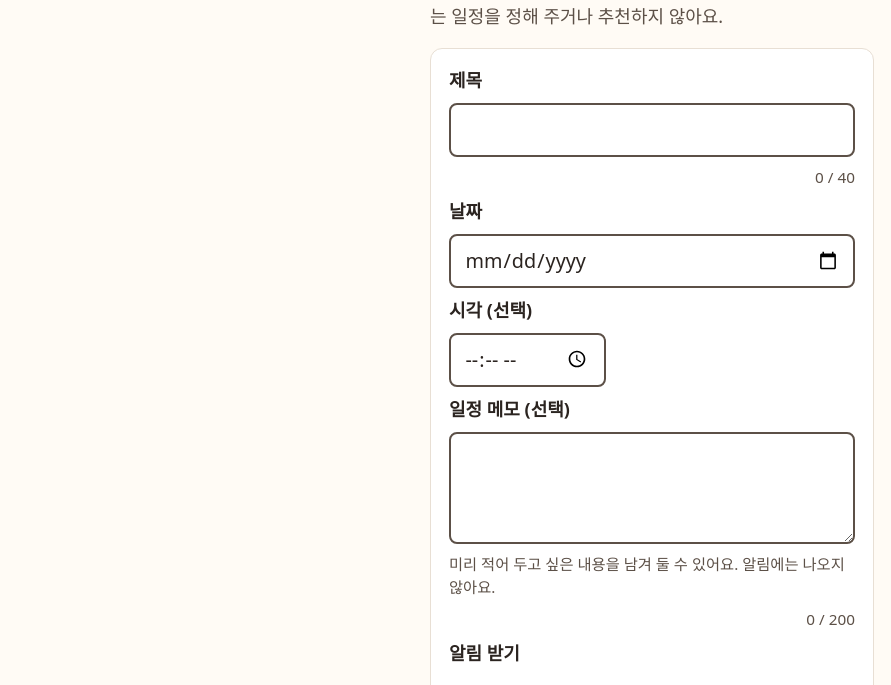
Test case: 할 일 추가 › 등록: 본문(빈 값 null)을 보내고 목록으로 가서 안내한다
Type "  광견병 접종 " into the field labelled "제목".
click(652, 130); type("  광견병 접종 ")  # box [449,103,855,157]
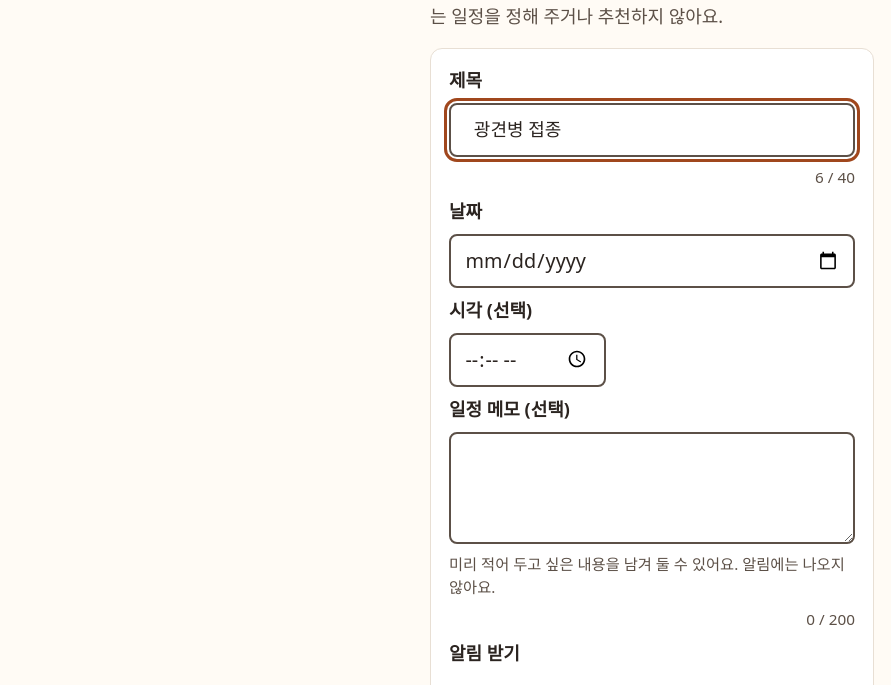
Type "2026-10-20" into the date field labelled "날짜".
click(652, 261); type("2026-10-20")  # box [449,234,855,288]
(page scrolled)
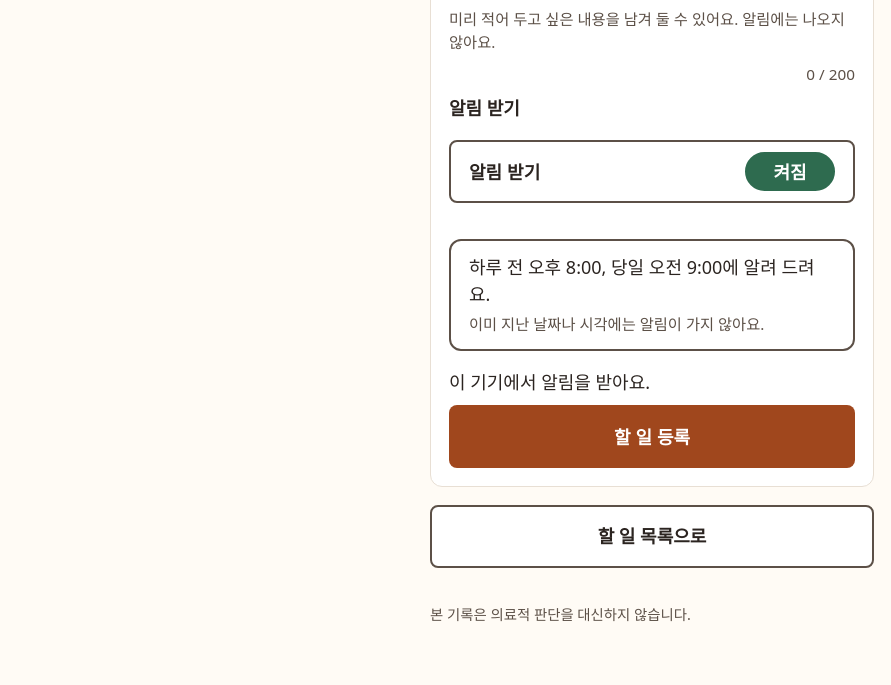
Click the button "할 일 등록".
click(652, 436)  # box [449,405,855,468]
(page scrolled)
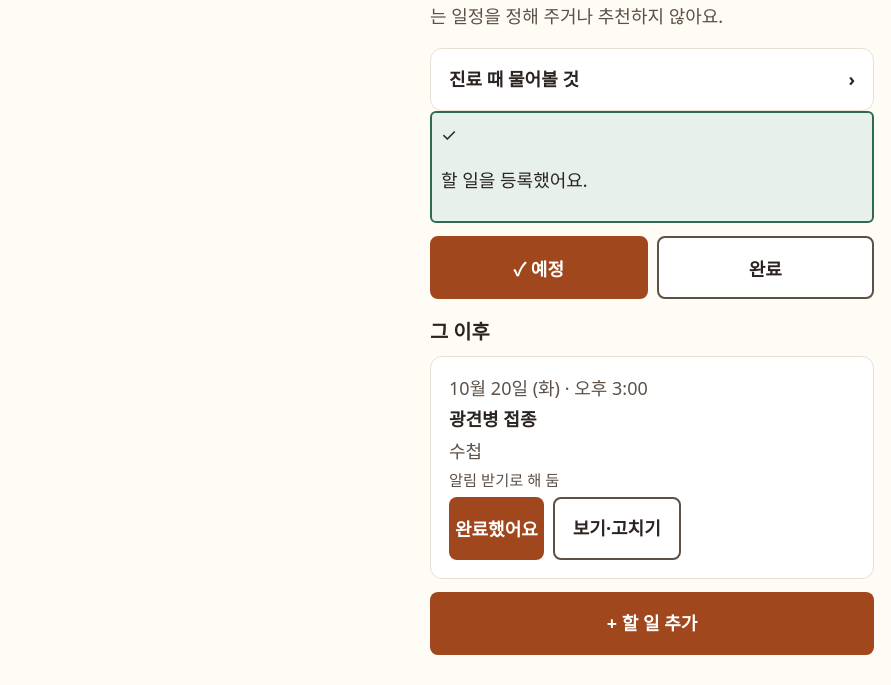
Expected: the message reads "할 일을 등록했어요.", [441,168,588,192]
